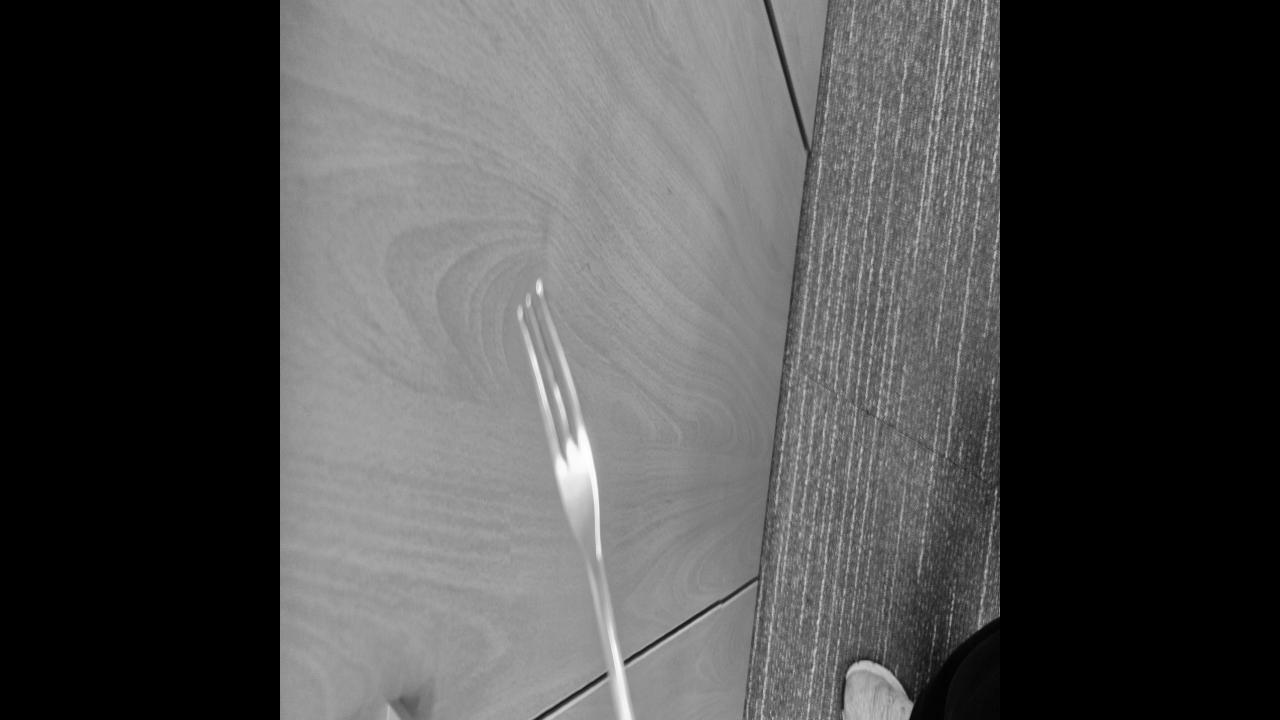fork: (518, 279, 700, 720)
